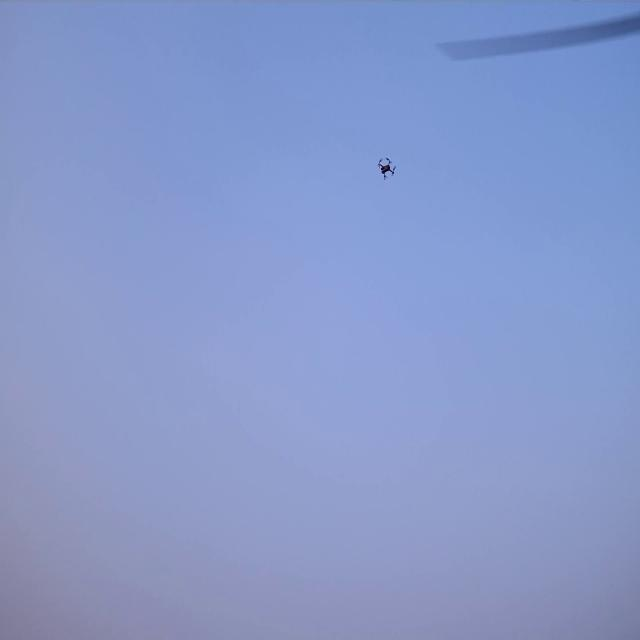UAV: (379, 159, 394, 179)
